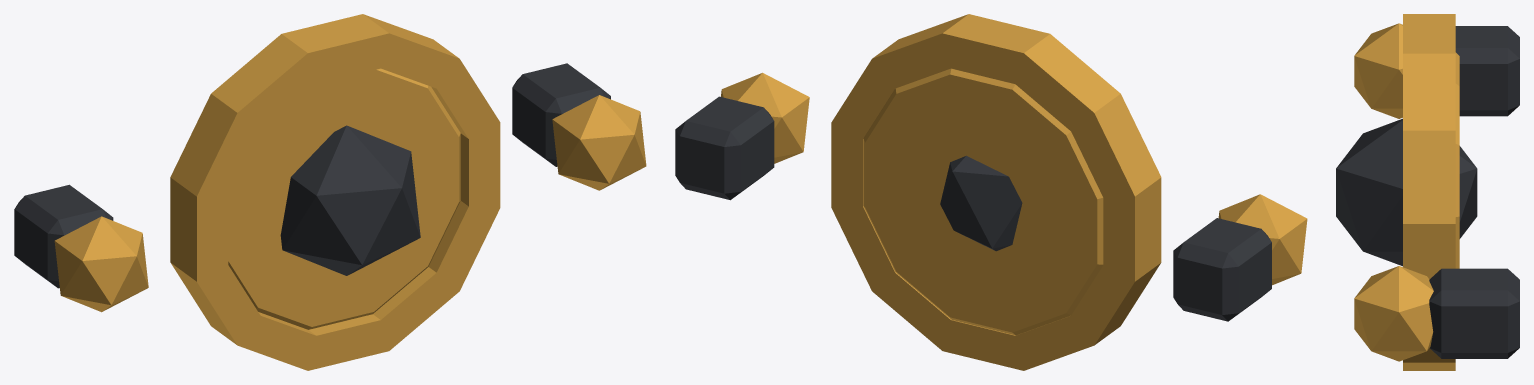
File: CannonKit8.obj
The picture shows the model from 3 angles, left to right: view 1: azimuth 30°, elevation 25°; view 2: azimuth 150°, elevation 25°; view 3: azimuth 270°, elevation 25°; orthographic projection.
Visible parts, largest first — view 1: CannonKit8; view 2: CannonKit8; view 3: CannonKit8.
Part boxes in pixels (x1,y1,x2,y2): CannonKit8: [14, 14, 646, 370]; CannonKit8: [675, 14, 1307, 370]; CannonKit8: [1336, 14, 1519, 370].
Size of the model in its own units: 0.4426 by 0.2318 by 0.1218.
